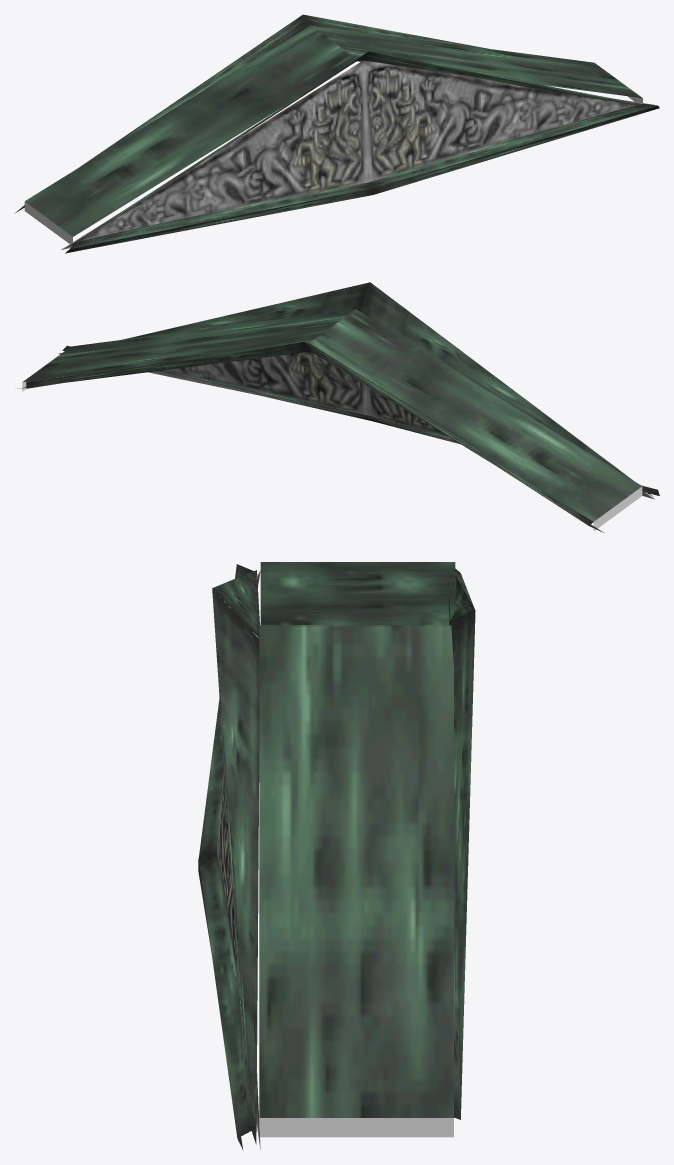
Rendered from Dach_TempelGiebelTypenGanz_210.glb.
3 renders of one model, top to bottom at view 1: azimuth 30°, elevation 25°; view 2: azimuth 150°, elevation 25°; view 3: azimuth 270°, elevation 25°, orthographic. The views are drawn at different scales.
Visible parts, largest first — view 1: pPlaneShape6, pPlaneShape8, pPlaneShape16, pPlaneShape12, pPlaneShape9, pPlaneShape17, pPlaneShape21, pPlaneShape19, pPlaneShape20, pPlaneShape18, polySurfaceShape1037; view 2: pPlaneShape6, pPlaneShape12, pPlaneShape16, pPlaneShape18, pPlaneShape19, pPlaneShape20, pPlaneShape21, pPlaneShape8, pPlaneShape17, pPlaneShape9, polySurfaceShape1037; view 3: pPlaneShape12, pPlaneShape19, pPlaneShape6, pPlaneShape20, pPlaneShape17, polySurfaceShape1038, pPlaneShape9, pPlaneShape16, pPlaneShape18.
Boxes of the visible parts, box(x1,y1,x2,y2) form: pPlaneShape6: box(25, 25, 356, 236); pPlaneShape8: box(61, 60, 369, 249); pPlaneShape16: box(363, 60, 654, 181); pPlaneShape12: box(310, 26, 642, 98); pPlaneShape9: box(65, 182, 372, 253); pPlaneShape17: box(369, 103, 659, 194); pPlaneShape21: box(15, 15, 309, 213); pPlaneShape19: box(357, 51, 642, 105); pPlaneShape20: box(303, 14, 487, 48); pPlaneShape18: box(64, 53, 366, 248); polySurfaceShape1037: box(24, 202, 72, 243); pPlaneShape6: box(309, 309, 641, 521); pPlaneShape12: box(22, 309, 356, 382); pPlaneShape16: box(58, 304, 368, 416); pPlaneShape18: box(360, 282, 653, 496); pPlaneShape19: box(123, 282, 369, 339); pPlaneShape20: box(17, 342, 310, 388); pPlaneShape21: box(304, 342, 603, 532); pPlaneShape8: box(367, 370, 654, 499); pPlaneShape17: box(62, 345, 371, 420); pPlaneShape9: box(361, 415, 659, 495); polySurfaceShape1037: box(593, 486, 642, 530); pPlaneShape12: box(259, 625, 453, 1117); pPlaneShape19: box(212, 589, 259, 1144); pPlaneShape6: box(260, 562, 455, 626); pPlaneShape20: box(449, 610, 475, 1119); pPlaneShape17: box(198, 854, 256, 1150); polySurfaceShape1038: box(259, 1118, 453, 1137); pPlaneShape9: box(198, 564, 253, 858); pPlaneShape16: box(217, 662, 260, 1149); pPlaneShape18: box(212, 570, 259, 637).
Bounding box in the file's own units: 3.13 × 0.7094 × 0.6304.
12 materials, 10 textured.
